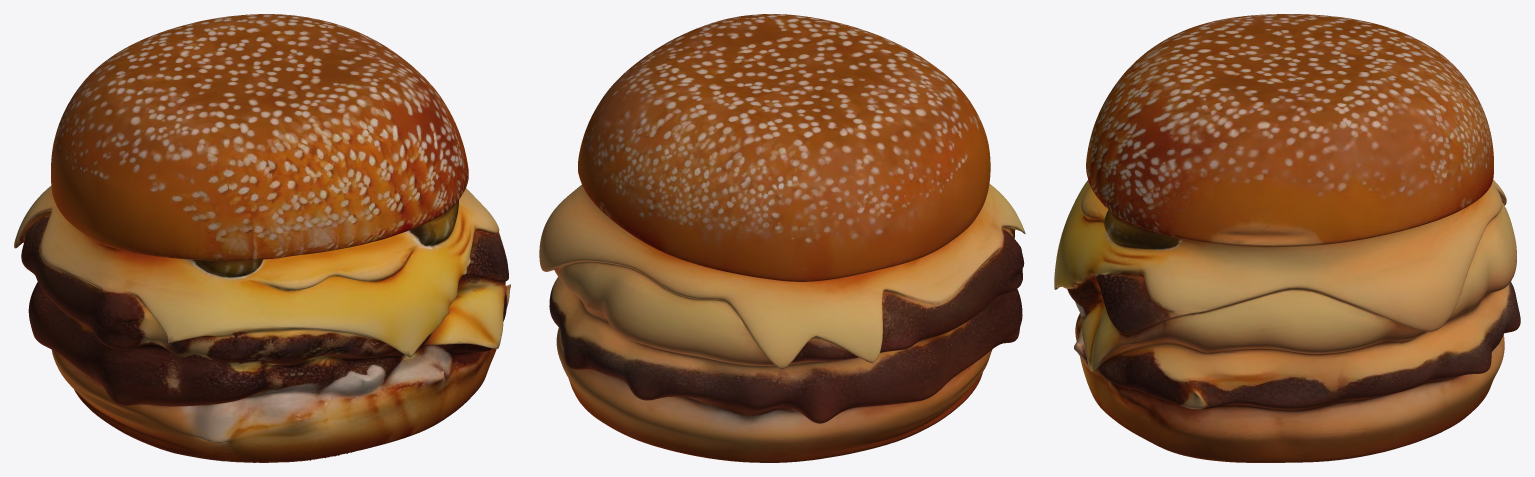
3 views of the same model, side by side, from view 1: azimuth 30°, elevation 25°; view 2: azimuth 150°, elevation 25°; view 3: azimuth 270°, elevation 25° (orthographic).
Parts seen in each view (by area): view 1: material; view 2: material; view 3: material.
Boxes of the visible parts, x1,y1,x2,y2 form: material: (14, 14, 510, 462); material: (539, 14, 1025, 462); material: (1054, 14, 1520, 462).
Bounding box in the file's own units: 0.9996 × 0.7432 × 0.9997.
1 material, 1 textured.
